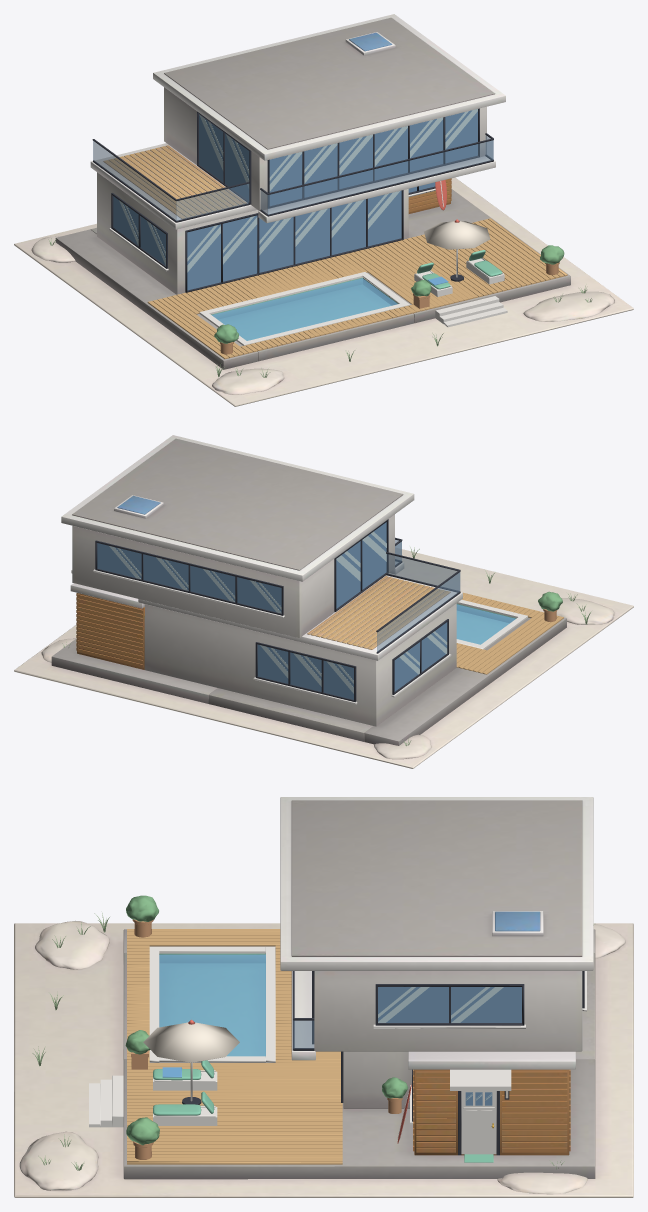
The model's file is luxury-beach-house-EGENRVYG.glb.
3 renders of one model, top to bottom at view 1: azimuth 30°, elevation 25°; view 2: azimuth 150°, elevation 25°; view 3: azimuth 270°, elevation 25°, orthographic. The views are drawn at different scales.
Visible parts, largest first — view 1: luxury-beach-house_body, luxury-beach-house_details, luxury-beach-house_railing_glass, luxury-beach-house_pool_water, luxury-beach-house_glints, luxury-beach-house_details_parasol, luxury-beach-house_plants, luxury-beach-house; view 2: luxury-beach-house_body, luxury-beach-house_details, luxury-beach-house_railing_glass, luxury-beach-house_glints, luxury-beach-house_pool_water; view 3: luxury-beach-house_body, luxury-beach-house_details, luxury-beach-house_pool_water, luxury-beach-house_details_parasol, luxury-beach-house_plants, luxury-beach-house_door_l, luxury-beach-house, luxury-beach-house_glints, luxury-beach-house_railing_glass.
Part boxes in pixels (x1,y1,x2,y2): luxury-beach-house_body: (14, 14, 633, 406); luxury-beach-house_details: (92, 108, 567, 359); luxury-beach-house_railing_glass: (93, 135, 493, 220); luxury-beach-house_pool_water: (212, 278, 397, 340); luxury-beach-house_glints: (119, 109, 477, 272); luxury-beach-house_details_parasol: (424, 219, 490, 249); luxury-beach-house_plants: (214, 245, 564, 343); luxury-beach-house: (417, 250, 502, 289); luxury-beach-house_body: (14, 435, 633, 768); luxury-beach-house_details: (71, 519, 563, 704); luxury-beach-house_railing_glass: (377, 540, 460, 651); luxury-beach-house_glints: (109, 531, 447, 693); luxury-beach-house_pool_water: (456, 604, 515, 644); luxury-beach-house_body: (14, 797, 633, 1197); luxury-beach-house_details: (89, 919, 586, 1164); luxury-beach-house_pool_water: (159, 954, 265, 1056); luxury-beach-house_details_parasol: (143, 1019, 239, 1062); luxury-beach-house_plants: (125, 895, 407, 1145); luxury-beach-house_door_l: (461, 1091, 496, 1154); luxury-beach-house: (153, 1060, 214, 1115); luxury-beach-house_glints: (378, 987, 503, 1022); luxury-beach-house_railing_glass: (293, 1020, 314, 1048).
Bounding box in the file's own units: 20 × 7.53 × 19.2.
20 materials, 1 textured.
